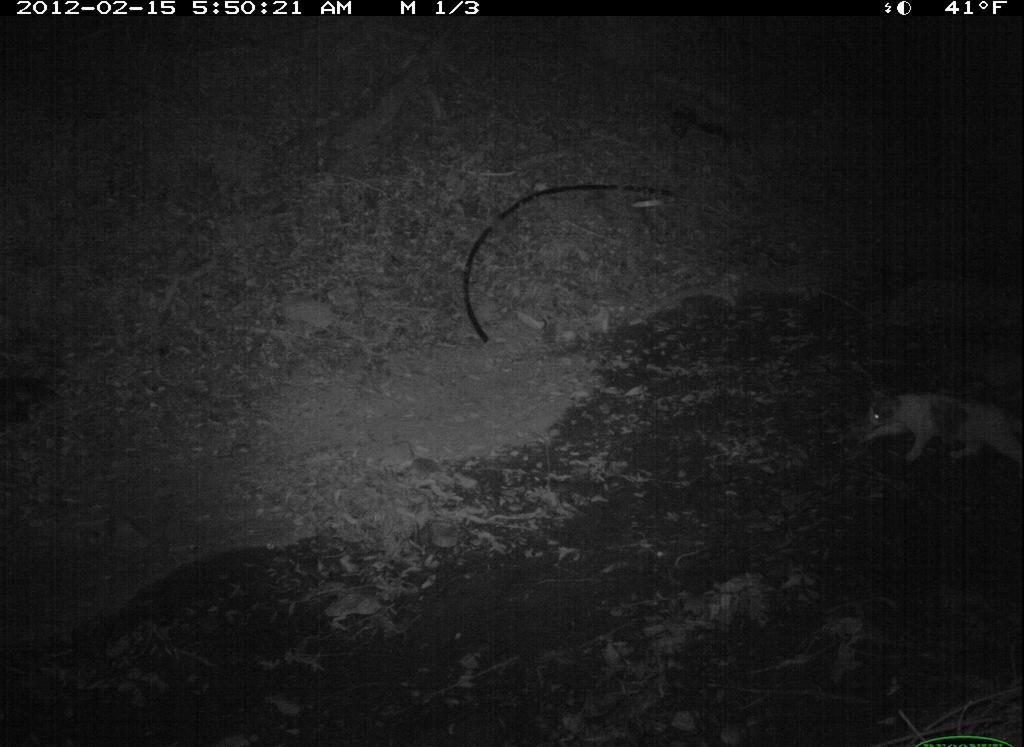cat: (854, 369, 1022, 511)
